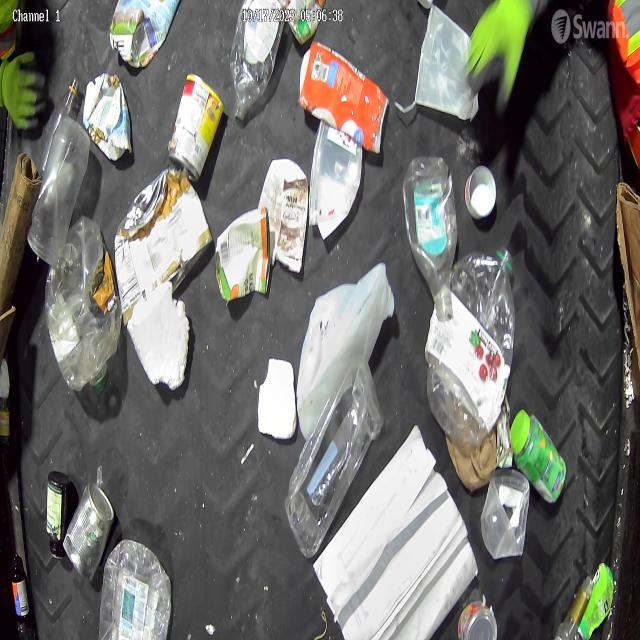can: (115, 168, 213, 329), (168, 73, 225, 182), (64, 481, 117, 583), (214, 211, 270, 301), (84, 74, 134, 162), (457, 601, 498, 640), (494, 410, 513, 470)
milk_jug: (297, 259, 394, 426)
plastic_bottle: (425, 246, 515, 444), (403, 154, 457, 309), (232, 5, 286, 121)
